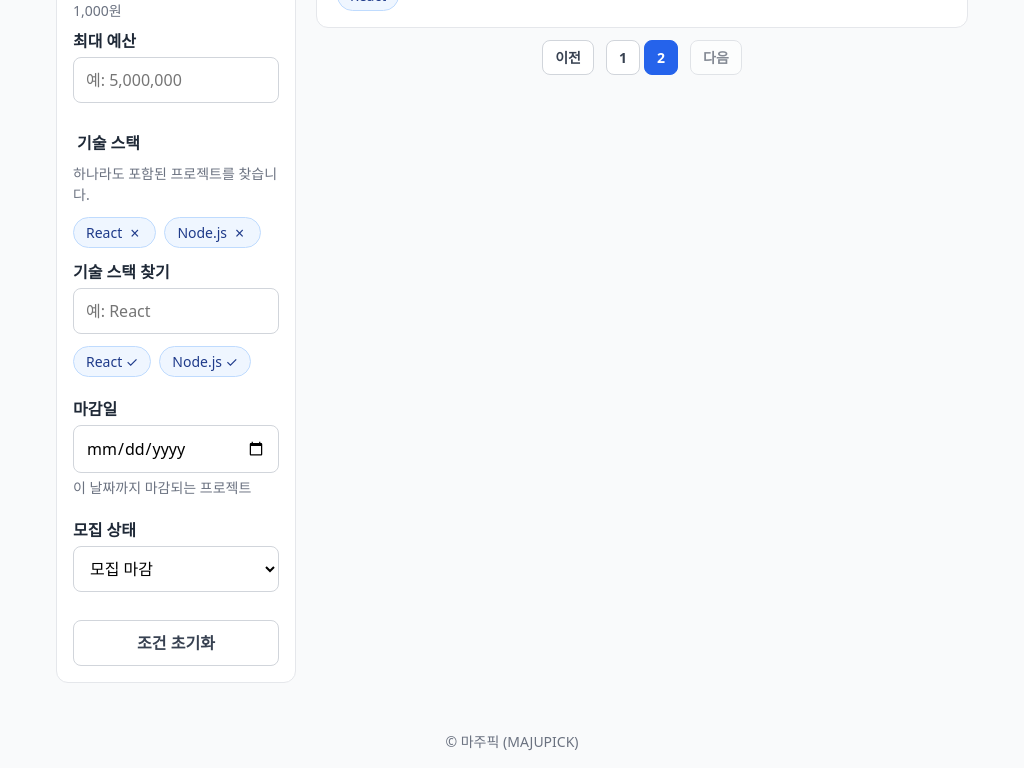
Scenario: project search page (SRCH-01) › restores every condition from the URL after a refresh and resets them
(page scrolled)
Expected: the dropdown labelled "모집 상태" shows "모집 마감", [73,546,279,592]
Expected: the text "React" is shown, [86,222,122,243]
Click the button "조건 초기화" at coordinates (176, 643), box [73,620,279,666]
(page scrolled)
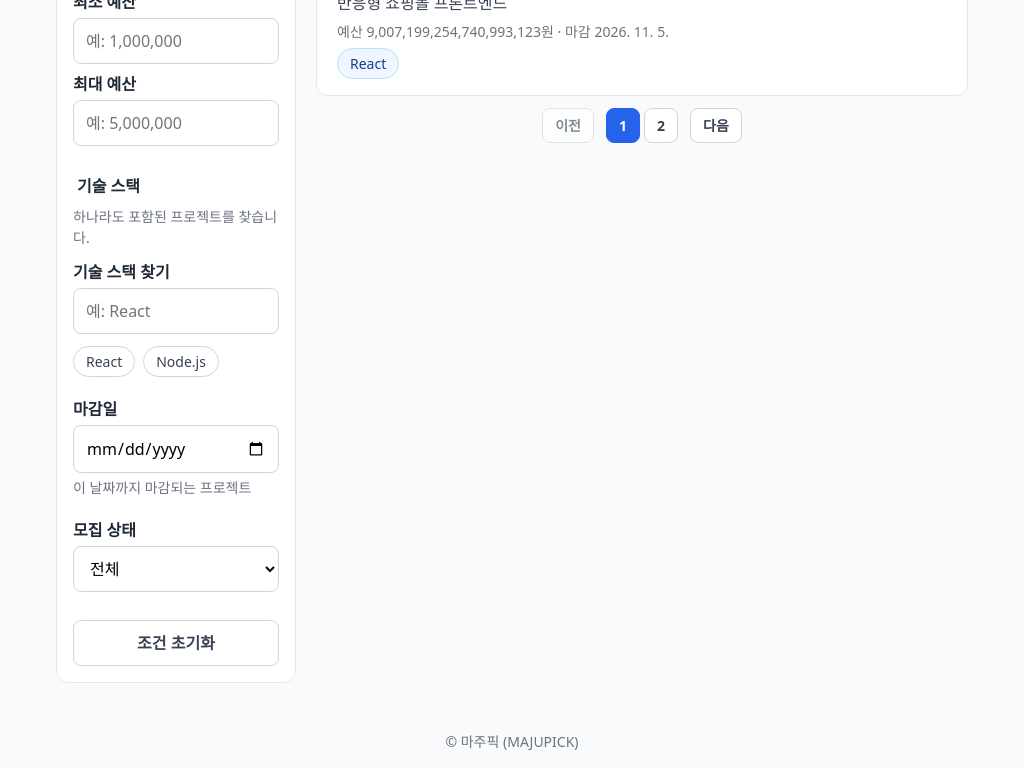
Expected: the field labelled "최소 예산" is empty, [73,18,279,64]
